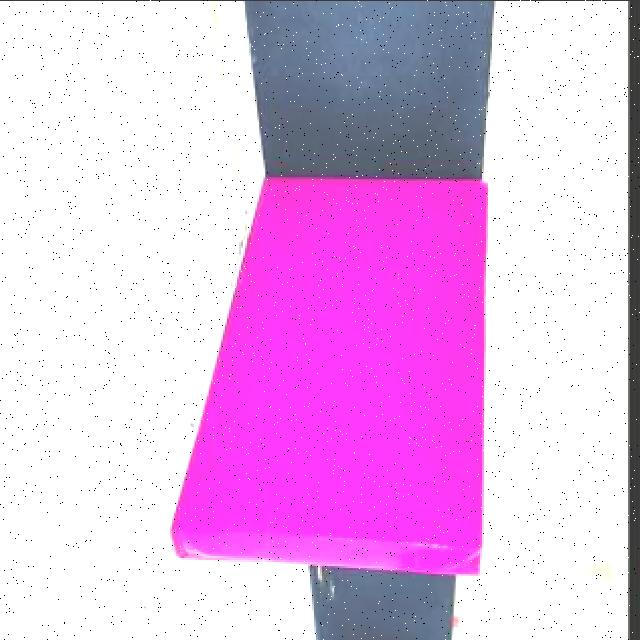xparking: (224, 180, 483, 571)
